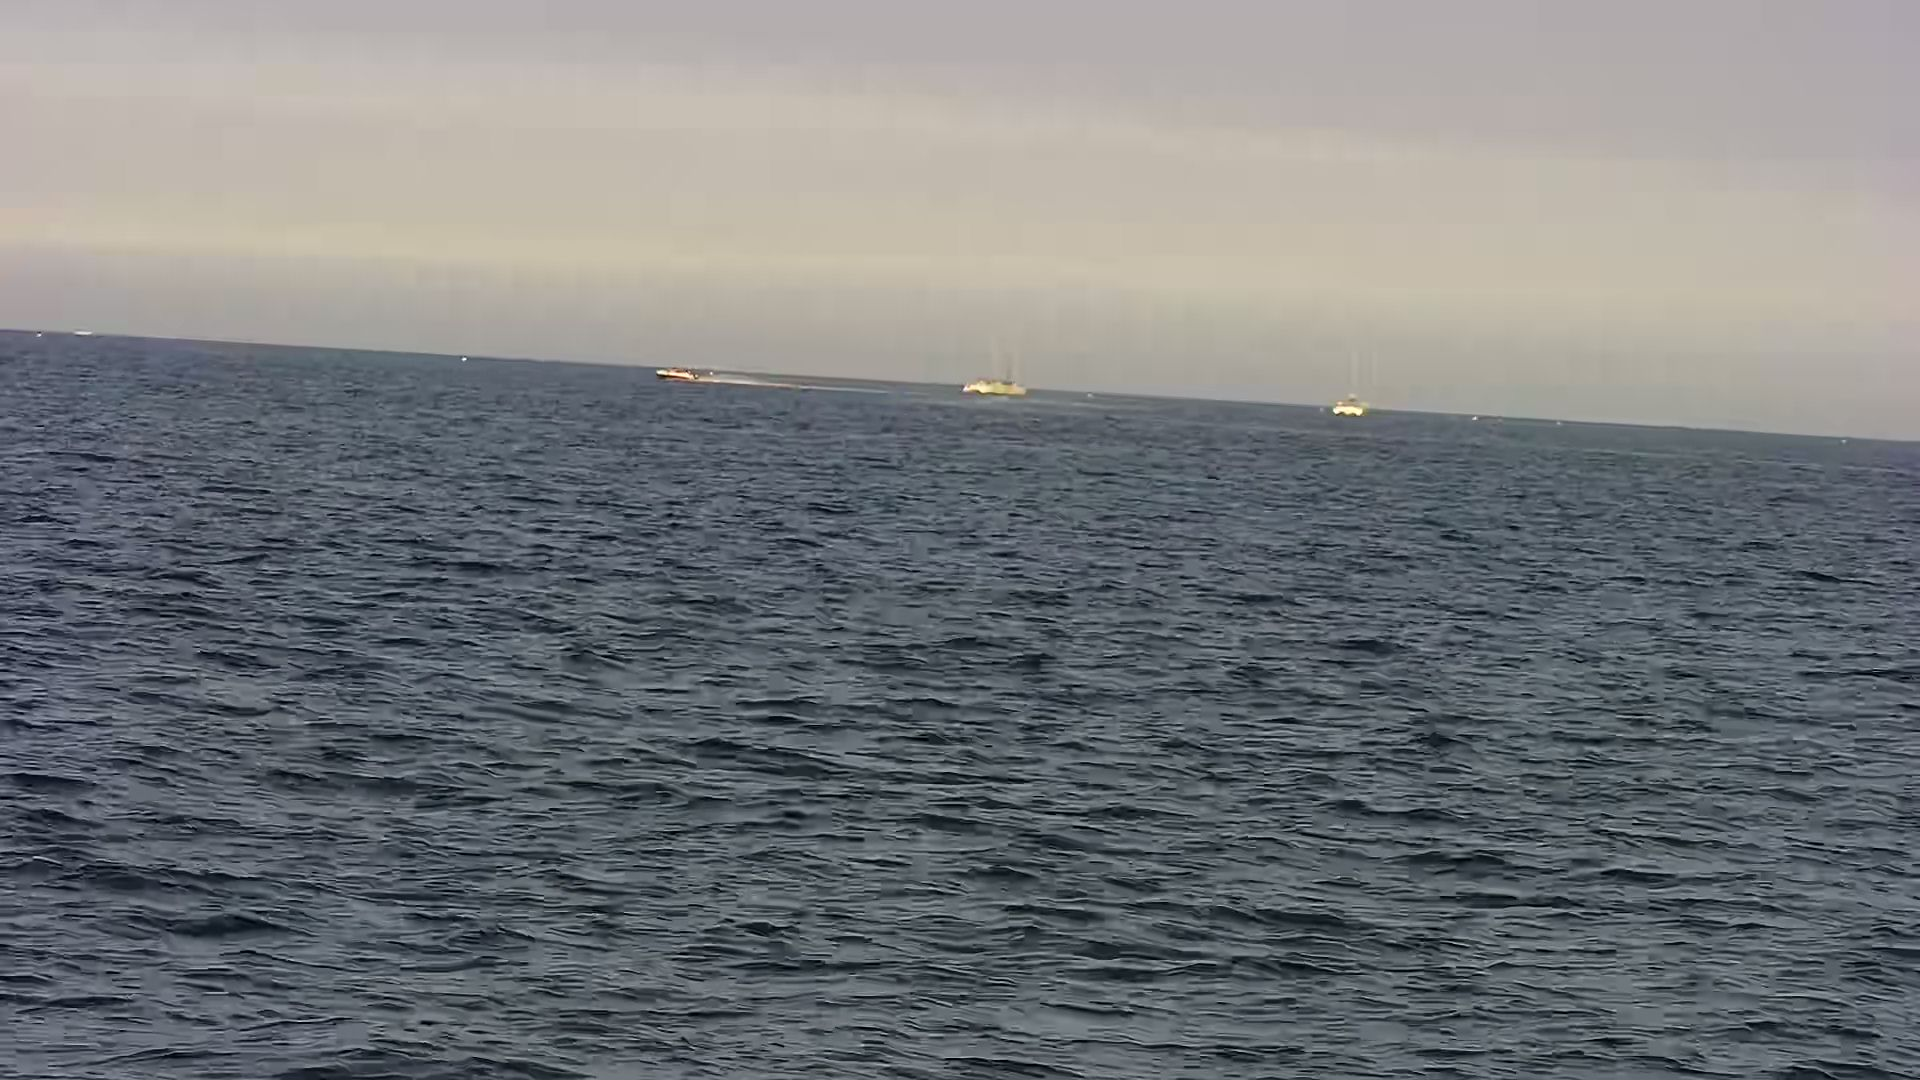boat: (949, 344, 1036, 398), (1324, 356, 1371, 421), (651, 367, 699, 385)
